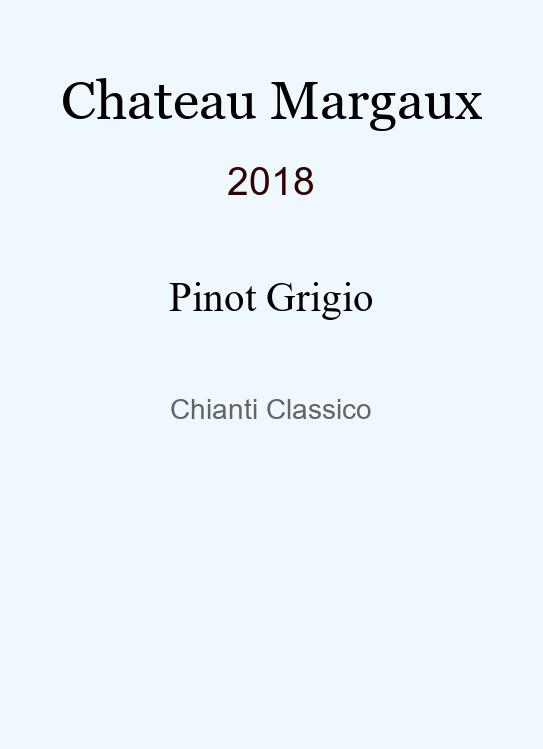brand: (61, 69, 482, 122)
region: (170, 393, 372, 413)
variety: (169, 274, 374, 312)
vintage: (227, 159, 315, 187)
